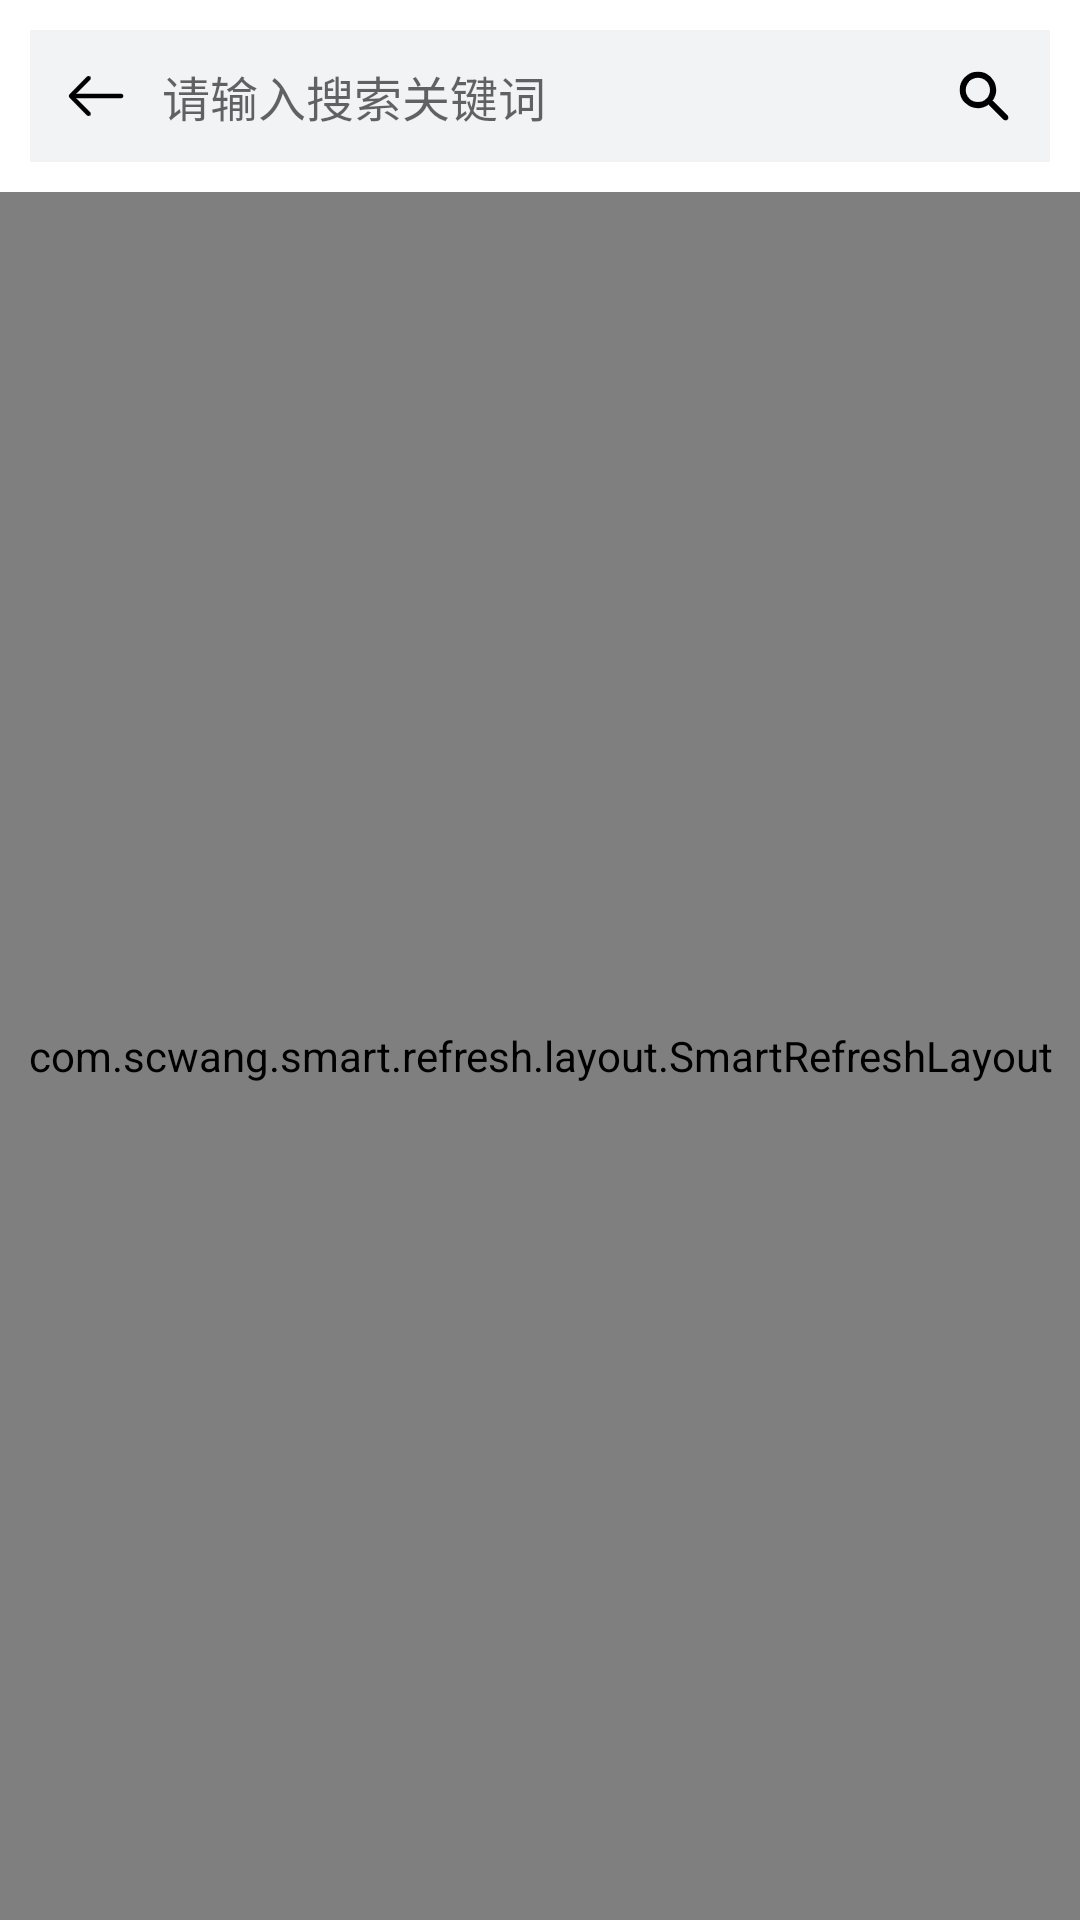

Point at icon controls on the screen. Image size 1080×1920, points as (x,y).
home back: (96,96)
home search: (984,96)
